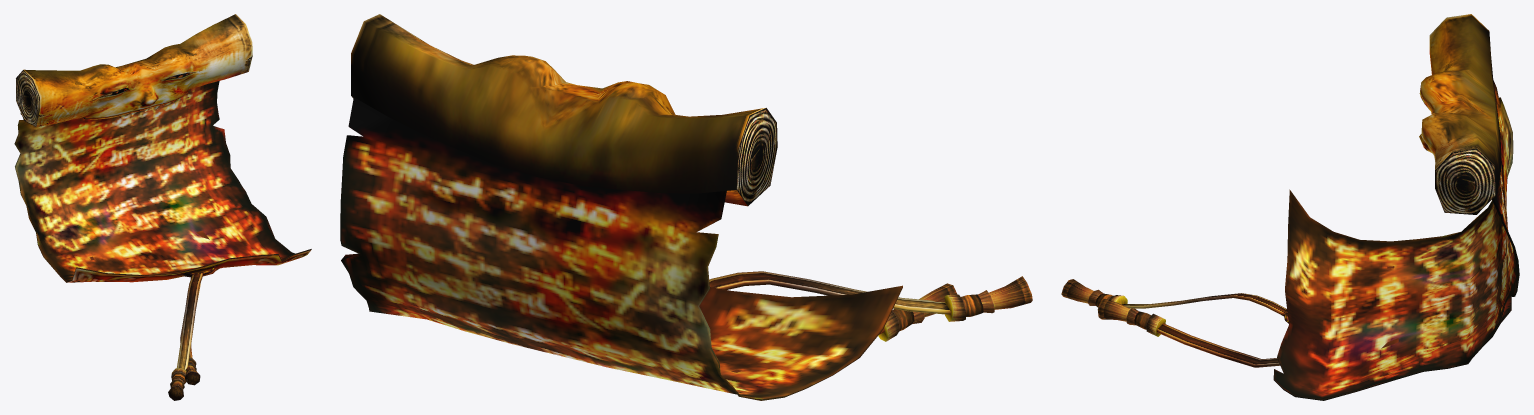
The model's file is Living Scroll.fbx.
3 renders of one model, left to right at view 1: azimuth 30°, elevation 25°; view 2: azimuth 150°, elevation 25°; view 3: azimuth 270°, elevation 25°, orthographic. The views are drawn at different scales.
Visible parts, largest first — view 1: Scroll, Head, Ribbon, Ends; view 2: Scroll, Head, Ends, Ribbon; view 3: Scroll, Head, Ribbon, Ends.
Part boxes in pixels (x1,y1,x2,y2): Scroll: (14, 81, 311, 282); Head: (16, 14, 252, 127); Ribbon: (177, 272, 203, 369); Ends: (168, 357, 200, 400); Scroll: (340, 97, 902, 400); Head: (351, 14, 777, 206); Ends: (878, 276, 1032, 341); Ribbon: (709, 271, 950, 334); Scroll: (1273, 80, 1519, 400); Head: (1419, 14, 1501, 214); Ribbon: (1122, 293, 1287, 367); Ends: (1061, 279, 1165, 336).
Size of the model in its own units: 936 by 891 by 1225.
Materials: 2 (2 with a texture image).
